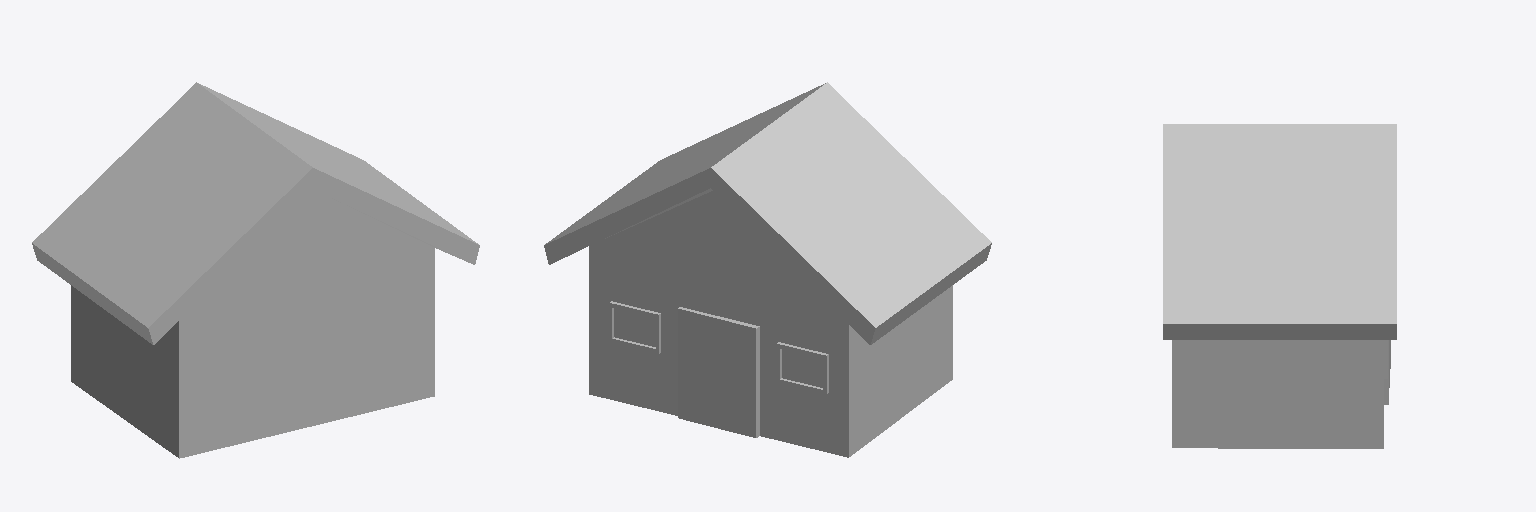
Rendered from house.obj.
The picture shows the model from 3 angles: view 1: azimuth 30°, elevation 25°; view 2: azimuth 150°, elevation 25°; view 3: azimuth 270°, elevation 25°; orthographic projection.
Visible parts, largest first — view 1: polySurface7; view 2: polySurface7; view 3: polySurface7.
Part boxes in pixels (x1,y1,x2,y2): polySurface7: (32, 82, 479, 458); polySurface7: (544, 82, 991, 457); polySurface7: (1163, 124, 1396, 448).
Size of the model in its own units: 8.86 by 6.7 by 5.39.